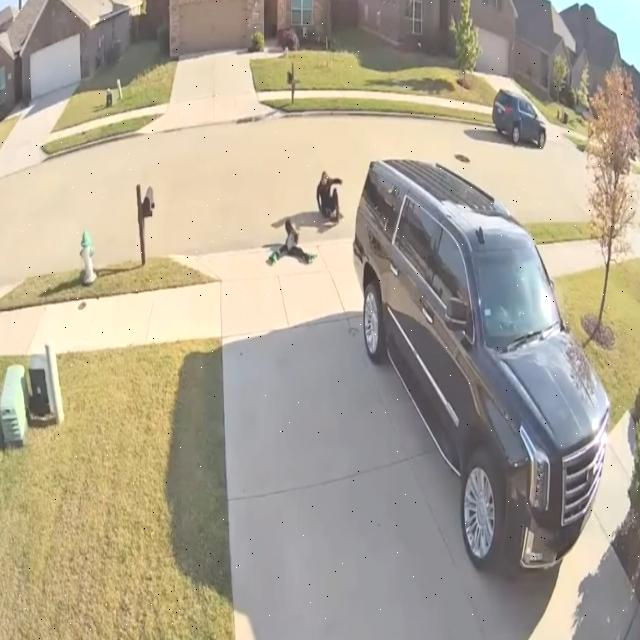fallen: (269, 218, 315, 264), (316, 171, 342, 219)
